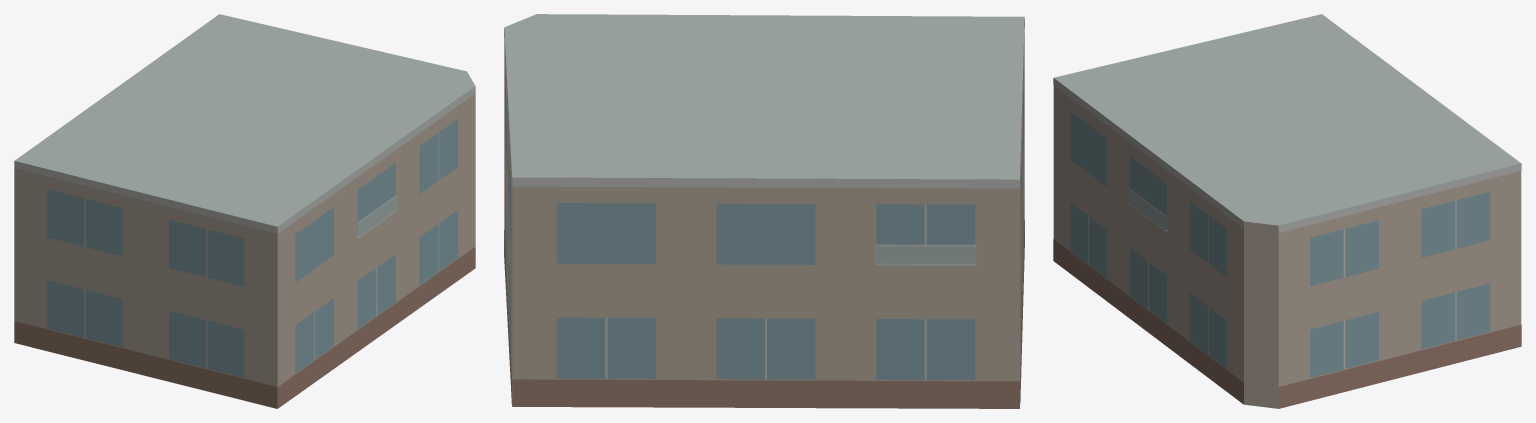
File: survey-upis-32528397.glb
3 renders of one model, left to right at view 1: azimuth 30°, elevation 25°; view 2: azimuth 150°, elevation 25°; view 3: azimuth 270°, elevation 25°, orthographic. The views are drawn at different scales.
Visible parts, largest first — view 1: survey-upis-32528397.tmp; view 2: survey-upis-32528397.tmp; view 3: survey-upis-32528397.tmp.
Part boxes in pixels (bbox=[...]): survey-upis-32528397.tmp: bbox=[14, 14, 475, 408]; survey-upis-32528397.tmp: bbox=[504, 14, 1024, 408]; survey-upis-32528397.tmp: bbox=[1053, 14, 1521, 408].
Bounding box in the file's own units: 15.12 × 6.1 × 14.13.
